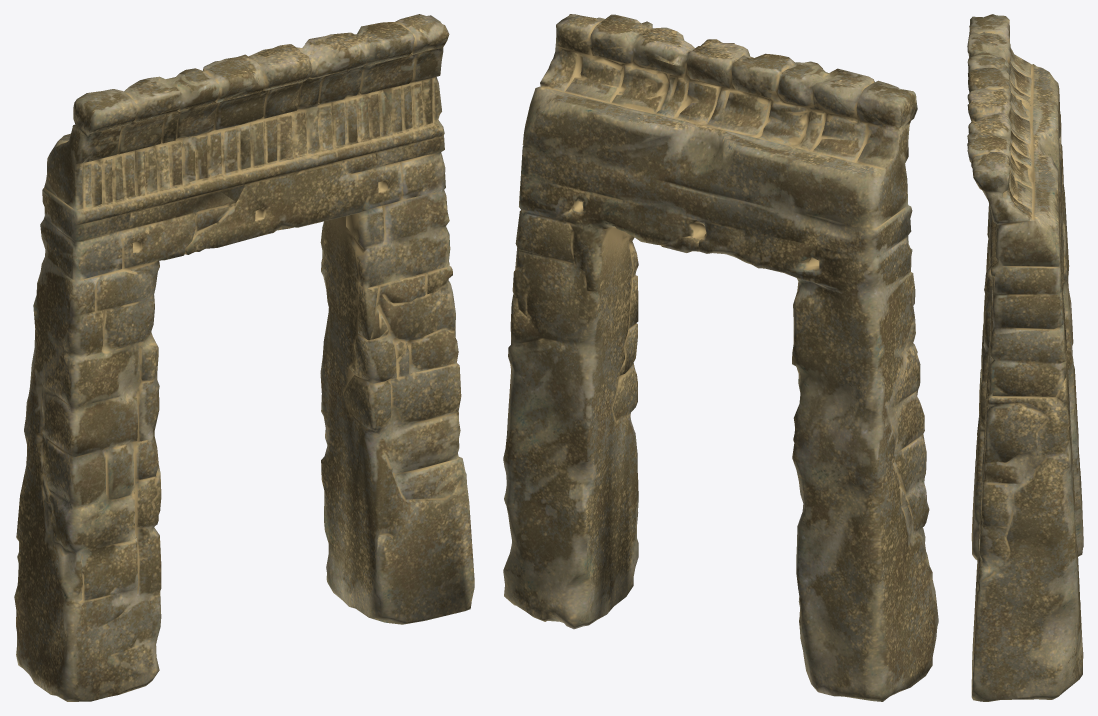
File: temple_entranceeee.fbx
3 renders of one model, left to right at view 1: azimuth 30°, elevation 25°; view 2: azimuth 150°, elevation 25°; view 3: azimuth 270°, elevation 25°, orthographic. The views are drawn at different scales.
Visible parts, largest first — view 1: Temple_1-Entrance; view 2: Temple_1-Entrance; view 3: Temple_1-Entrance.
Part boxes in pixels (x1=…): Temple_1-Entrance: x1=14, y1=14, x2=474, y2=701; Temple_1-Entrance: x1=503, y1=14, x2=938, y2=701; Temple_1-Entrance: x1=967, y1=14, x2=1083, y2=701.
Size of the model in its own units: 480 by 664 by 133.
1 material, 1 textured.
